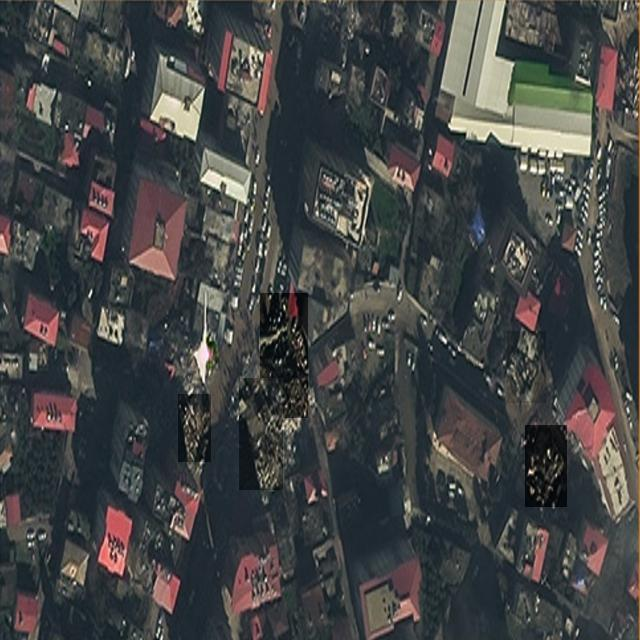Rubble: (260, 293, 308, 418), (240, 378, 284, 490), (525, 425, 567, 507), (507, 332, 546, 404), (178, 394, 211, 462)
